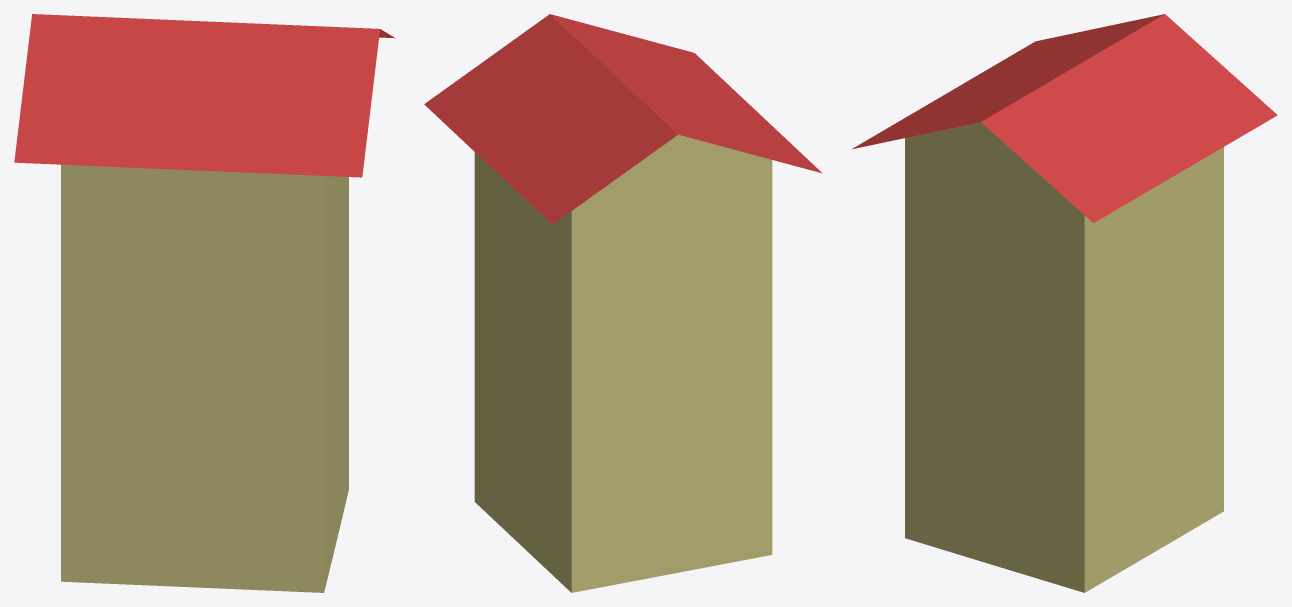
The picture shows the model from 3 angles, left to right: view 1: azimuth 30°, elevation 25°; view 2: azimuth 150°, elevation 25°; view 3: azimuth 270°, elevation 25°; orthographic projection. The views are drawn at different scales.
Size of the model in its own units: 5.59 by 5.54 by 6.58.
